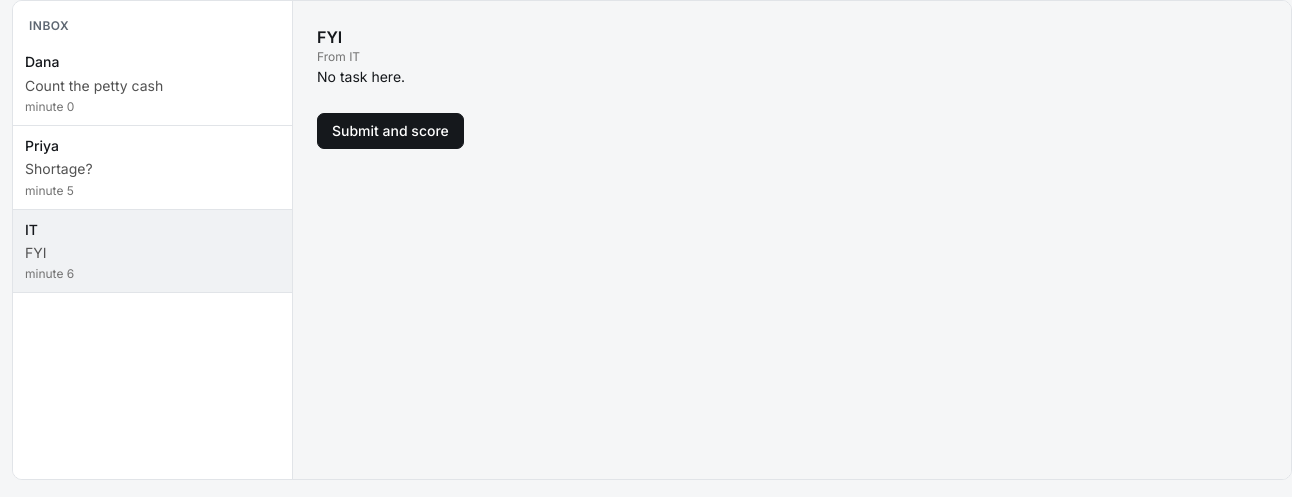
DevWorkspace › shows the step a message delivers and keeps answers when switching
Click the button "Dana Count the petty cash minute 0" at (152, 84), box [13, 42, 292, 126]
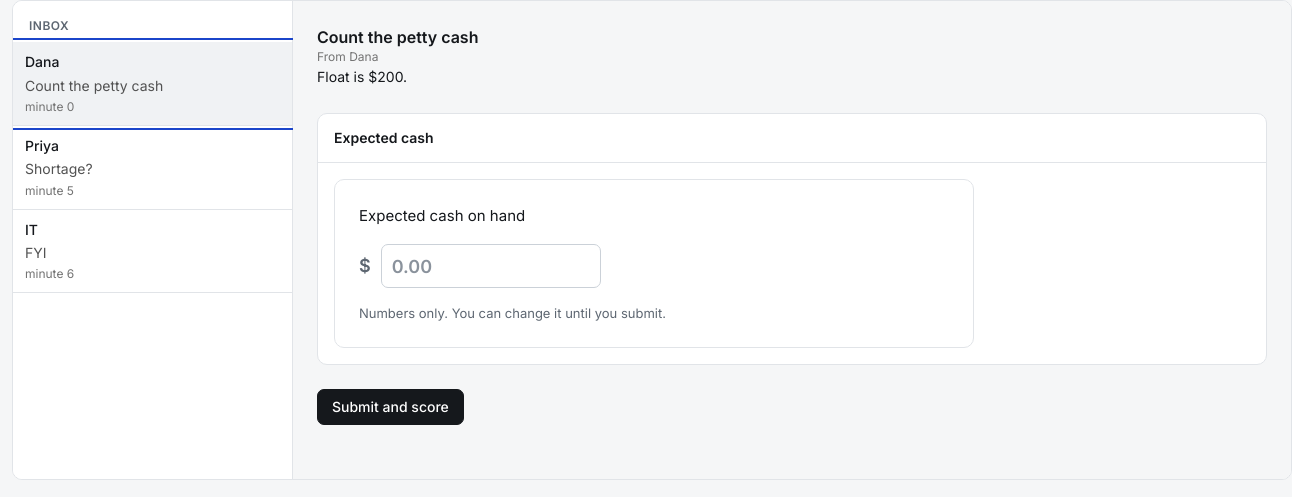
expect the heading "Expected cash" is shown: met, box [334, 129, 434, 146]
Type "200" into the field labelled "Expected cash on hand" at (491, 266), box [381, 244, 601, 288]
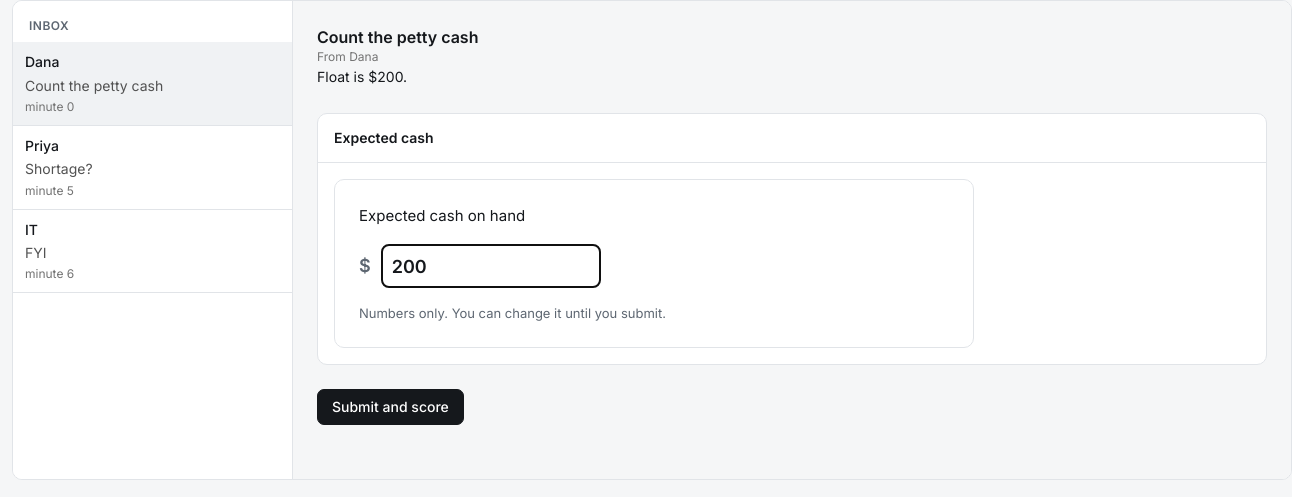
Click the button "Priya Shortage? minute 5" at (42, 145), box [13, 126, 292, 210]
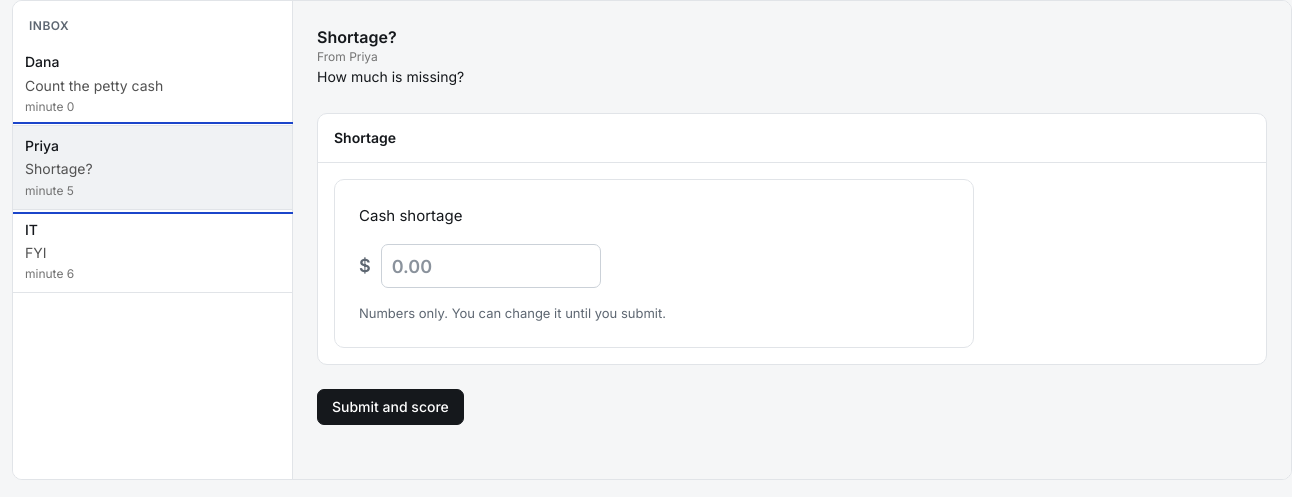
expect the field labelled "Cash shortage" is empty: met, box [381, 244, 601, 288]
Click the button "Dana Count the petty cash minute 0" at (152, 84), box [13, 42, 292, 126]
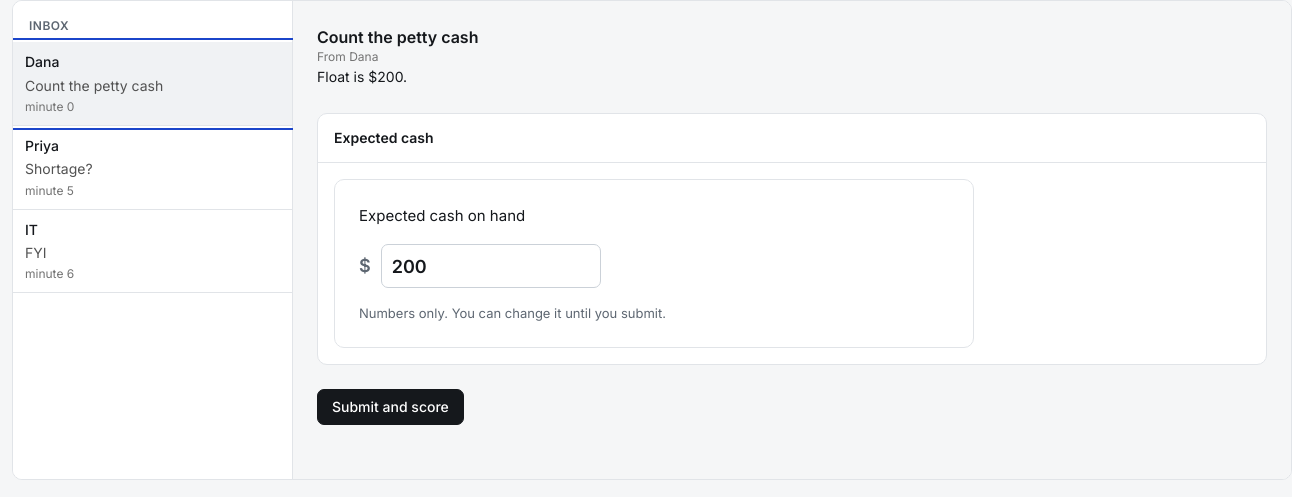
expect the field labelled "Expected cash on hand" holds "200": met, box [381, 244, 601, 288]
